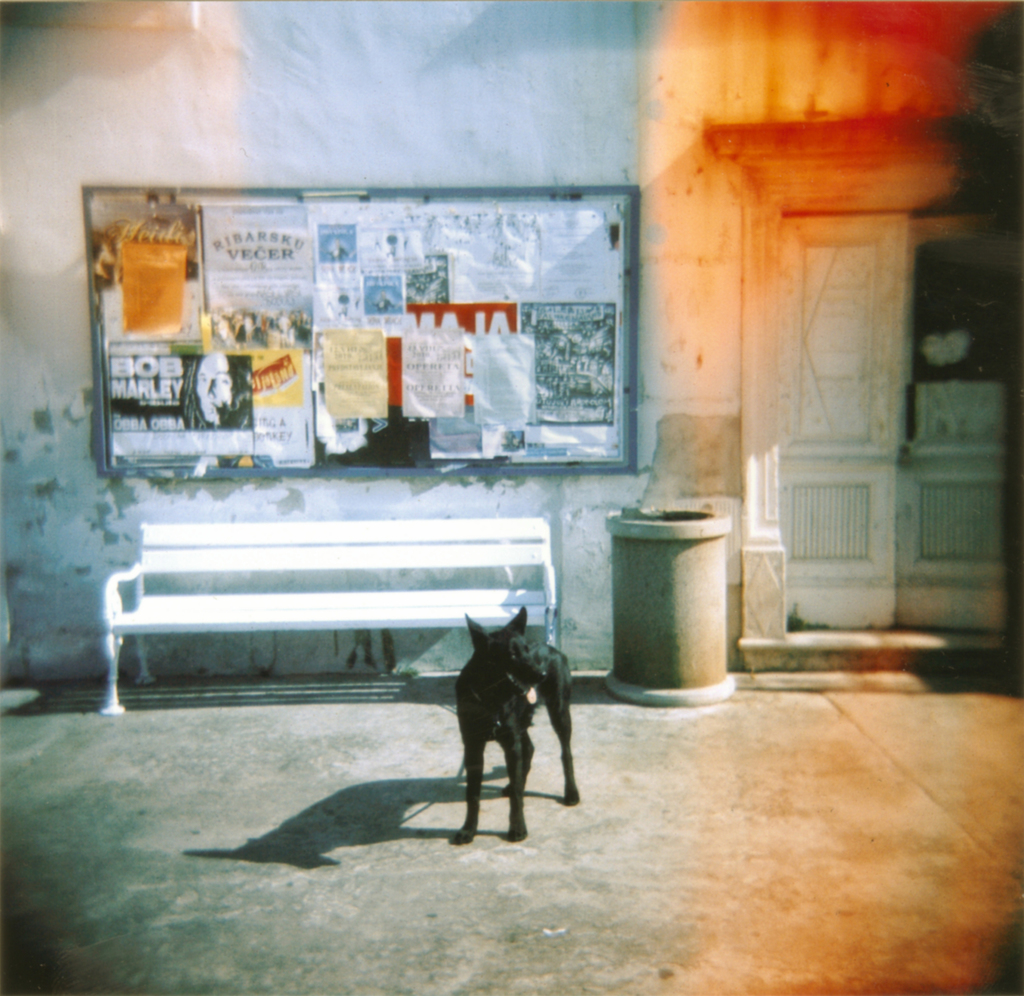Animal: (455, 601, 587, 846)
